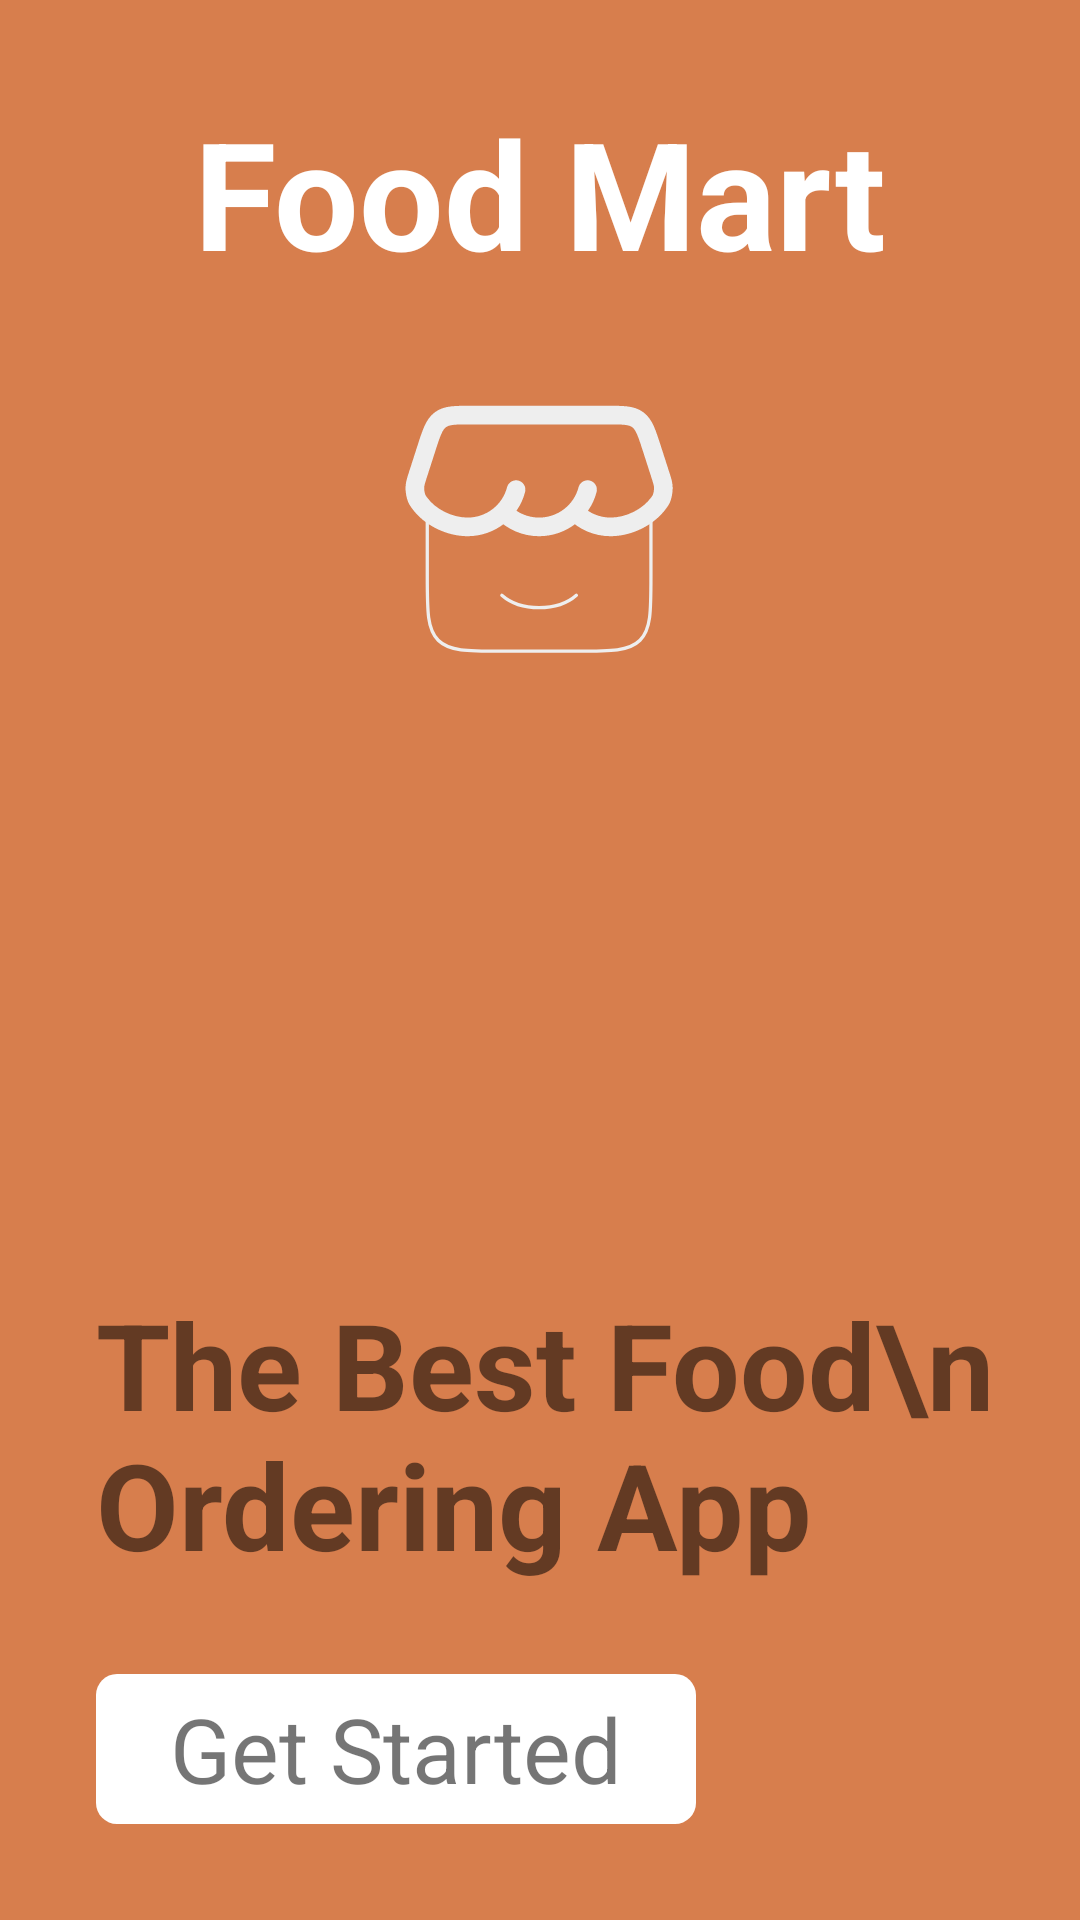

Named icons in this screenshot (1080×1920) and their bounding boxes, (x1, y1, x2, y2):
store: (405, 405, 673, 653)
